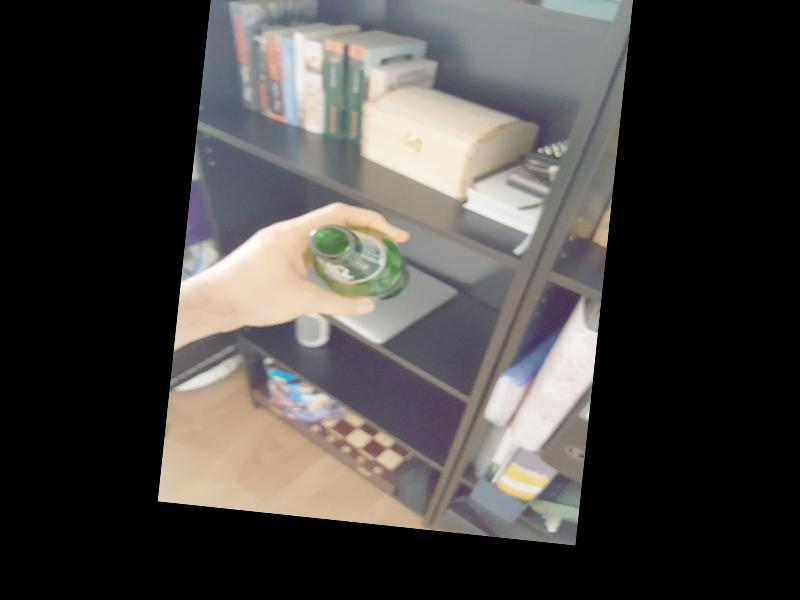Beer: (302, 223, 413, 307)
